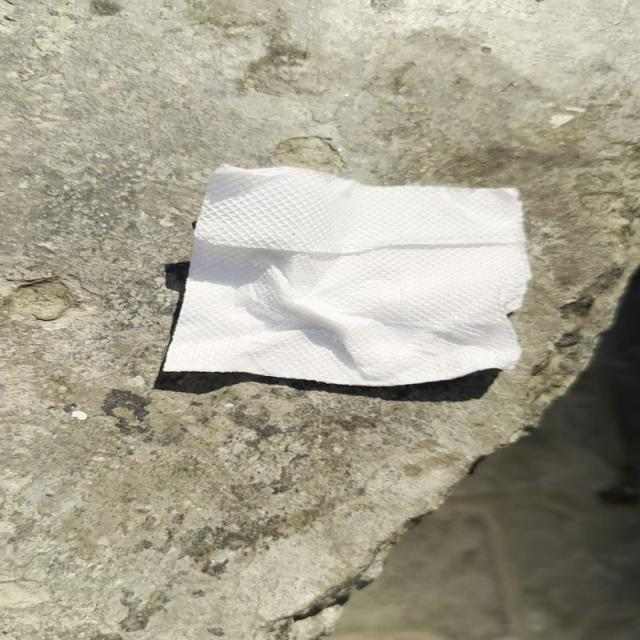tissue: (157, 160, 543, 383)
